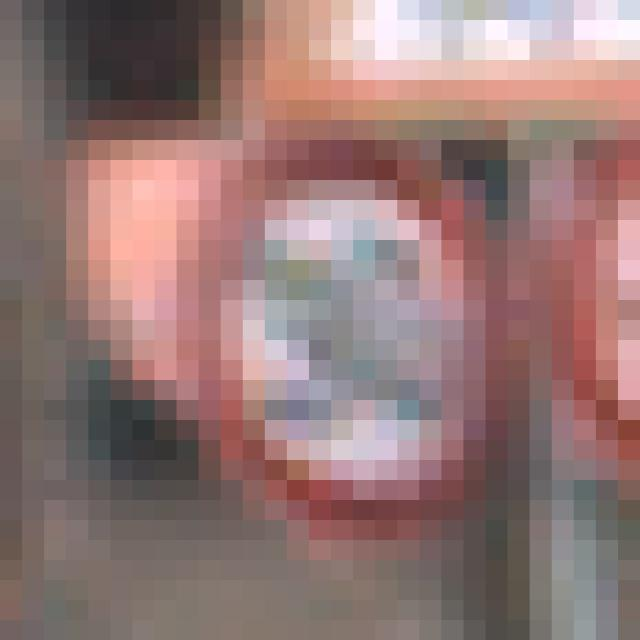Speed Limit -30-: (121, 90, 496, 530)
